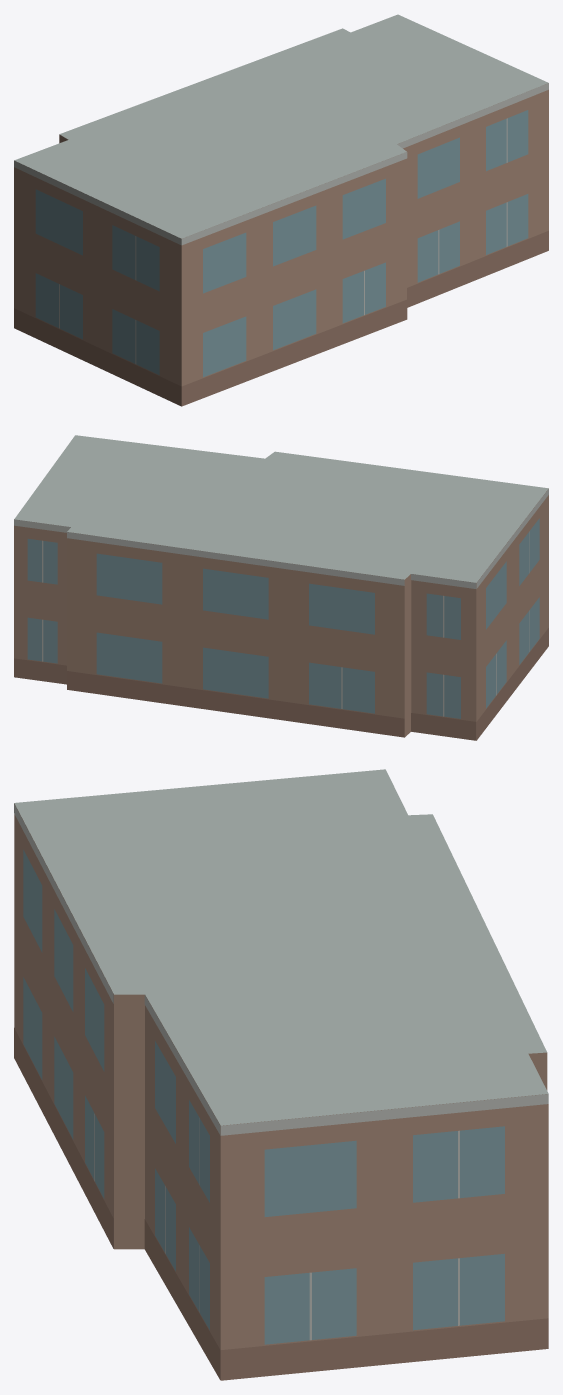
The model's file is survey-upis-32624101.glb.
3 renders of one model, top to bottom at view 1: azimuth 30°, elevation 25°; view 2: azimuth 150°, elevation 25°; view 3: azimuth 270°, elevation 25°, orthographic. The views are drawn at different scales.
Visible parts, largest first — view 1: survey-upis-32624101.tmp; view 2: survey-upis-32624101.tmp; view 3: survey-upis-32624101.tmp.
Part boxes in pixels (box(x1,y1,x2,y2)): survey-upis-32624101.tmp: box(14, 14, 548, 406); survey-upis-32624101.tmp: box(14, 435, 548, 740); survey-upis-32624101.tmp: box(14, 769, 548, 1380).
Size of the model in its own units: 18.3 by 6.1 by 11.6.
